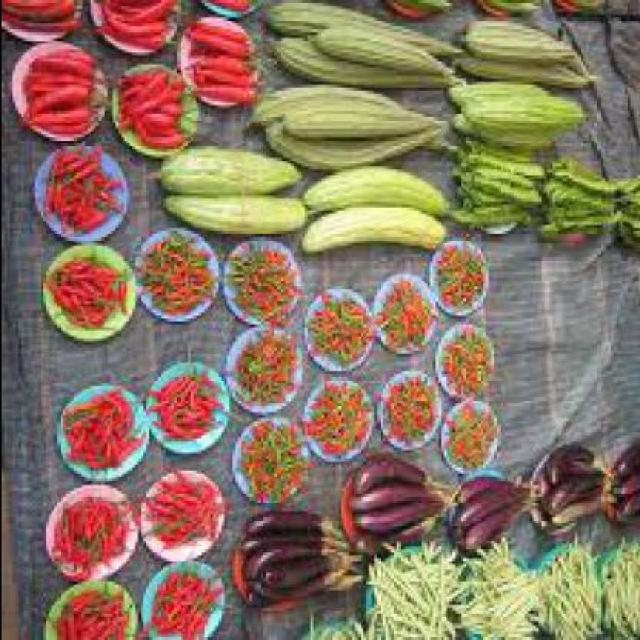BIODEGRADABLE: (247, 85, 459, 149), (278, 35, 464, 91), (269, 0, 463, 48), (370, 543, 462, 637), (466, 540, 546, 638), (258, 126, 448, 166), (286, 94, 448, 140), (156, 143, 306, 192), (467, 15, 593, 70), (320, 24, 458, 73), (303, 164, 448, 210), (45, 149, 117, 234), (142, 233, 215, 313), (162, 191, 306, 231), (67, 389, 139, 468), (545, 541, 604, 637), (309, 202, 448, 242), (148, 474, 225, 546), (231, 243, 298, 325), (53, 250, 129, 322), (245, 418, 312, 499), (159, 368, 226, 438), (236, 330, 301, 401), (348, 488, 462, 528), (58, 497, 125, 565), (309, 379, 373, 450), (159, 570, 223, 635), (312, 292, 373, 360), (458, 106, 554, 146), (245, 527, 348, 564), (250, 538, 348, 576), (354, 511, 437, 555), (462, 47, 598, 73), (467, 496, 535, 547), (61, 588, 130, 637), (390, 374, 439, 441), (378, 284, 434, 342), (464, 100, 588, 126), (248, 561, 348, 593), (443, 327, 492, 391), (459, 479, 528, 524), (261, 552, 354, 585), (473, 138, 549, 178), (437, 242, 486, 304), (117, 76, 189, 116), (610, 536, 638, 638), (452, 403, 498, 462), (548, 474, 615, 511), (356, 456, 429, 489), (353, 480, 445, 506), (100, 3, 172, 35), (453, 78, 552, 100), (26, 82, 109, 106), (192, 23, 253, 55), (250, 508, 339, 529), (451, 202, 534, 224), (471, 176, 540, 202), (2, 0, 82, 22), (554, 444, 600, 482), (462, 473, 518, 502), (192, 50, 259, 73), (556, 494, 615, 520), (111, 0, 175, 23), (128, 70, 170, 105), (532, 468, 556, 529), (26, 102, 94, 123), (131, 120, 192, 143), (95, 28, 167, 47), (5, 14, 81, 32), (476, 161, 535, 184), (28, 67, 97, 85), (198, 82, 256, 103), (195, 67, 259, 85), (198, 21, 247, 44), (306, 619, 365, 638), (31, 52, 100, 68), (614, 432, 638, 476), (326, 567, 366, 593), (125, 67, 156, 96), (139, 114, 184, 132), (153, 102, 187, 120), (230, 547, 242, 593), (33, 120, 95, 128), (58, 46, 94, 59), (617, 475, 638, 497), (623, 491, 639, 515), (498, 0, 540, 9), (573, 0, 600, 12), (409, 0, 454, 6), (217, 0, 254, 6)
